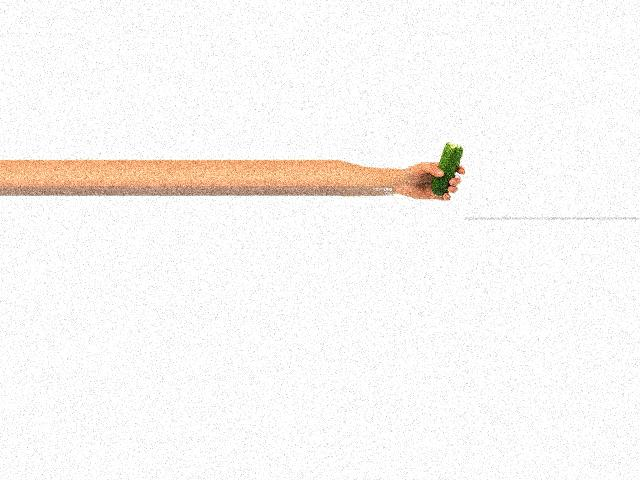cucumber: (430, 142, 462, 196)
